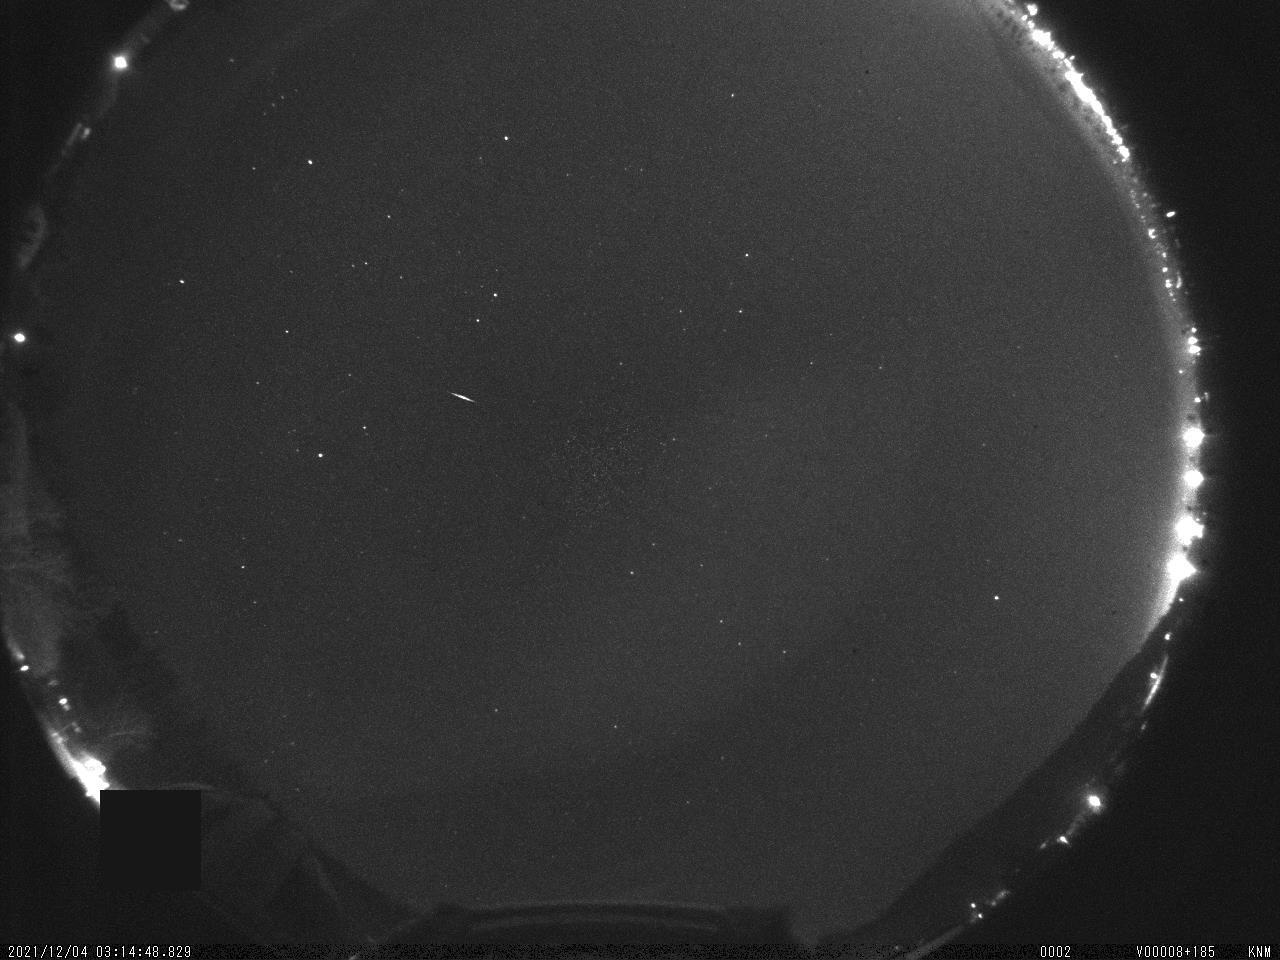Meteor: (447, 387, 480, 405)
